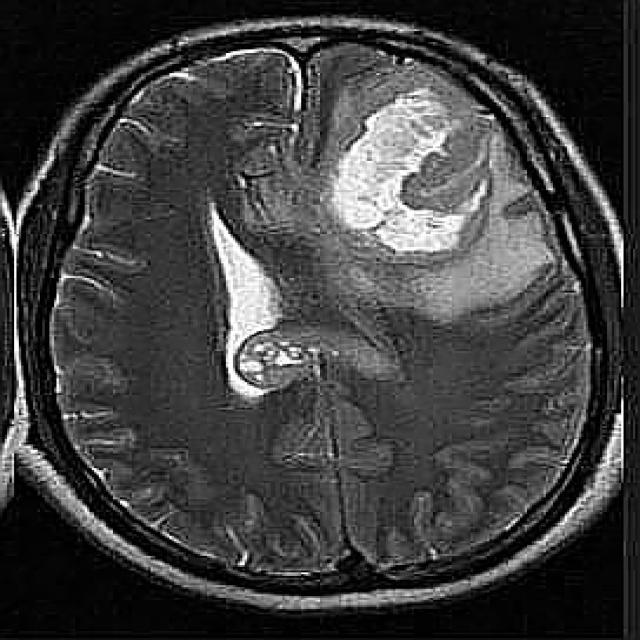Tumor-Cell: (312, 98, 515, 256)
